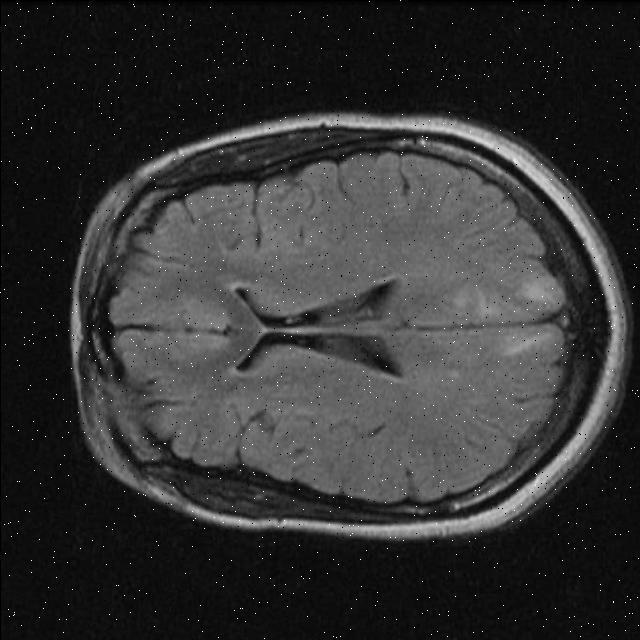No_Tumor: (71, 113, 631, 539)
